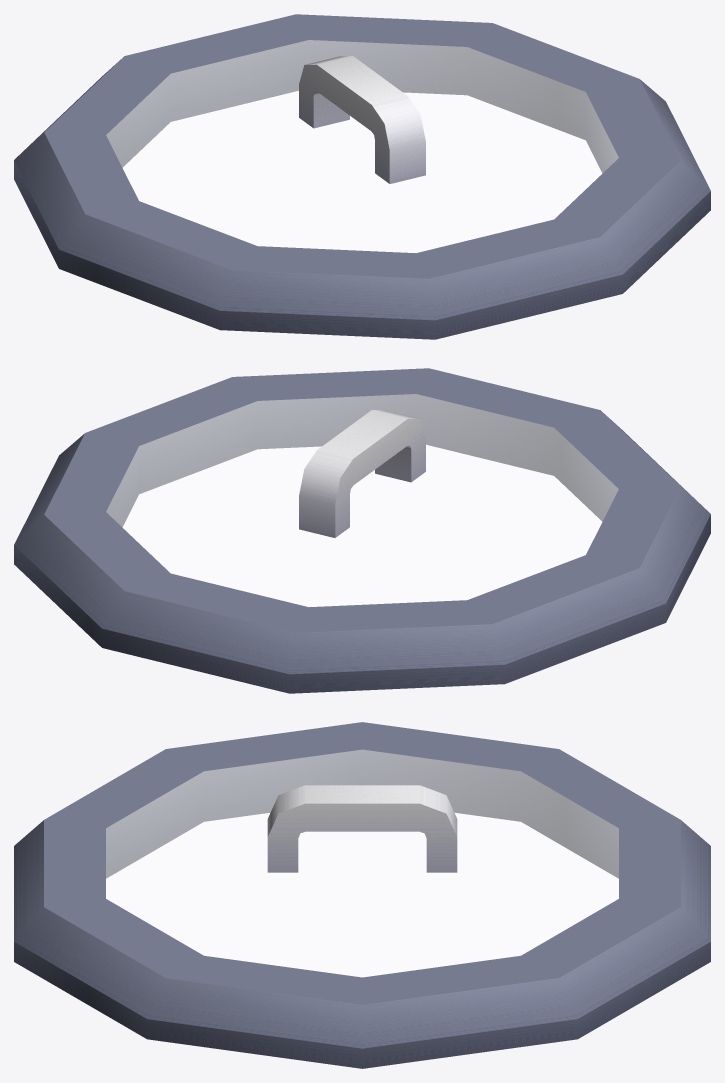
File: pot-stew-lid.glb
3 views of the same model, one above another, from view 1: azimuth 30°, elevation 25°; view 2: azimuth 150°, elevation 25°; view 3: azimuth 270°, elevation 25° (orthographic). The views are drawn at different scales.
Visible parts, largest first — view 1: pot-stew-lid, (%ignore); view 2: pot-stew-lid, (%ignore); view 3: pot-stew-lid, (%ignore).
Boxes of the visible parts, <box> form: pot-stew-lid: <box>14,14,710,339</box>; (%ignore): <box>106,40,618,252</box>; pot-stew-lid: <box>14,368,710,693</box>; (%ignore): <box>106,394,618,606</box>; pot-stew-lid: <box>14,722,710,1068</box>; (%ignore): <box>106,749,618,977</box>.
Bounding box in the file's own units: 0.6574 × 0.1184 × 0.6253.
2 materials, 1 textured.
